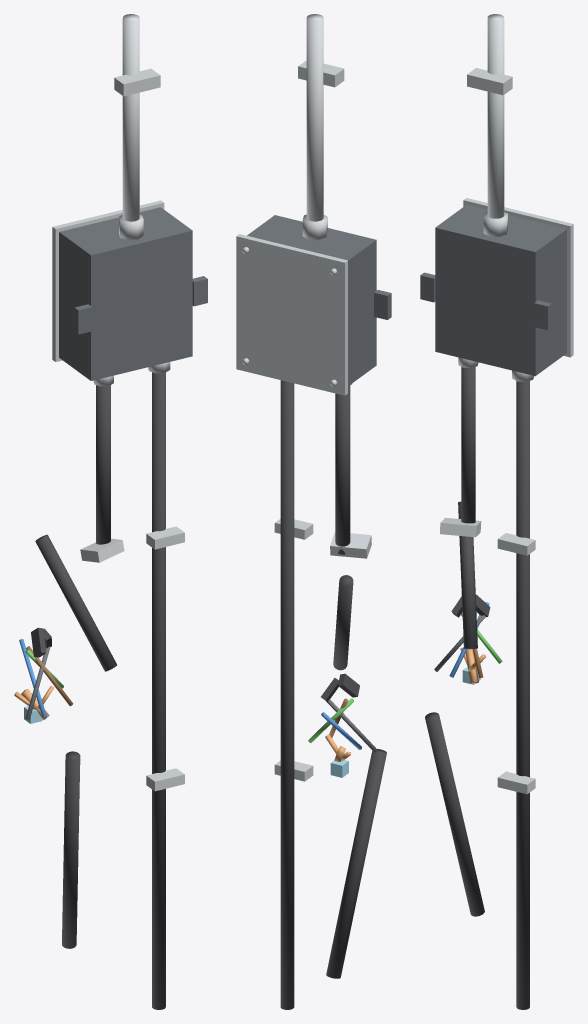
Rendered from CableDamage.fbx.
3 renders of one model, left to right at view 1: azimuth 30°, elevation 25°; view 2: azimuth 150°, elevation 25°; view 3: azimuth 330°, elevation 25°, orthographic.
Visible parts, largest first — view 1: Hazard_Damaged_Cable_Branch; view 2: Hazard_Damaged_Cable_Branch; view 3: Hazard_Damaged_Cable_Branch.
Boxes of the visible parts, x1,y1,x2,y2 form: Hazard_Damaged_Cable_Branch: (14,14,207,1009); Hazard_Damaged_Cable_Branch: (236,14,391,1009); Hazard_Damaged_Cable_Branch: (420,14,573,1009).
Bounding box in the file's own units: 32.17 × 206 × 24.06.
